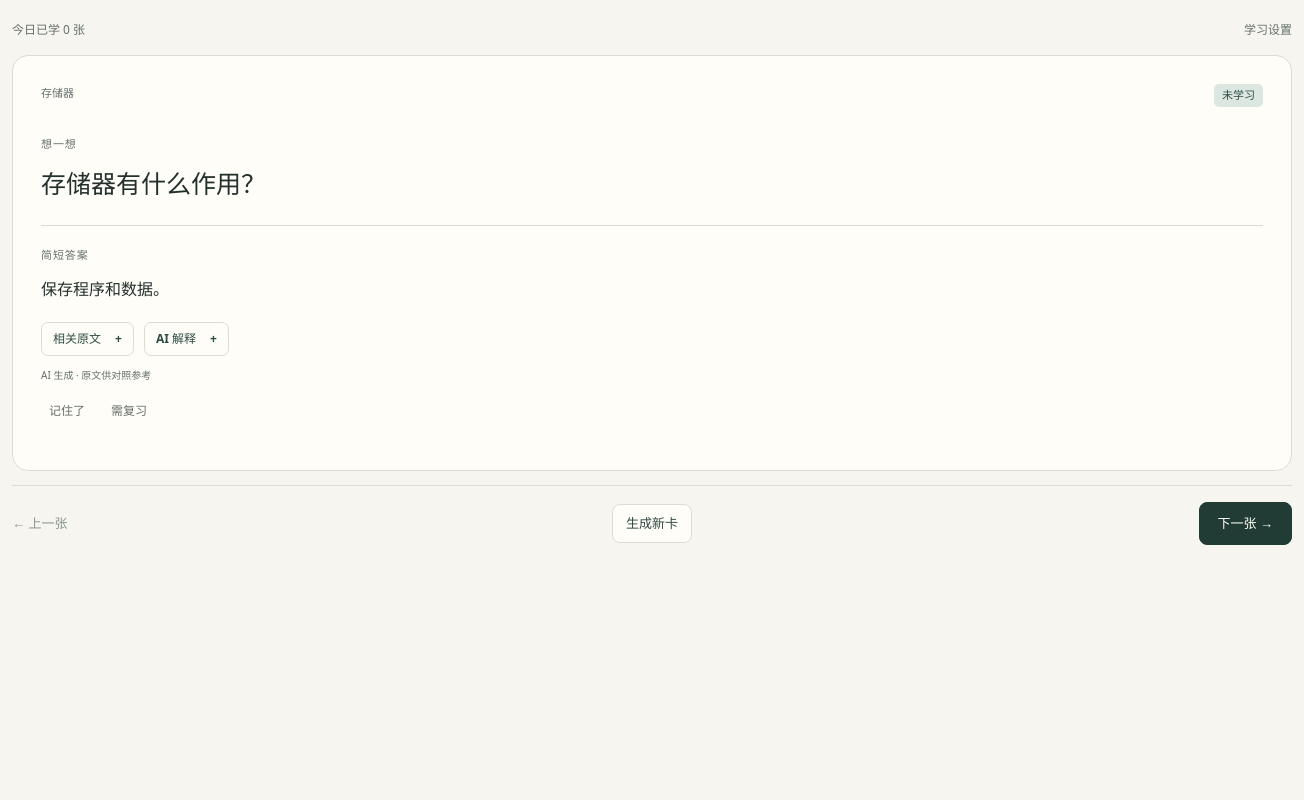
Test: shows LLM content with optional original text and working page navigation
The width and height of the screenshot is (1304, 800).
Expected: the text "保存程序和数据。" is shown, [41,278,169,300]
Expected: the text "AI 生成 · 原文供对照参考" is shown, [41,368,151,382]
Click the button "相关原文 +": [87, 339] box [41,322,134,356]
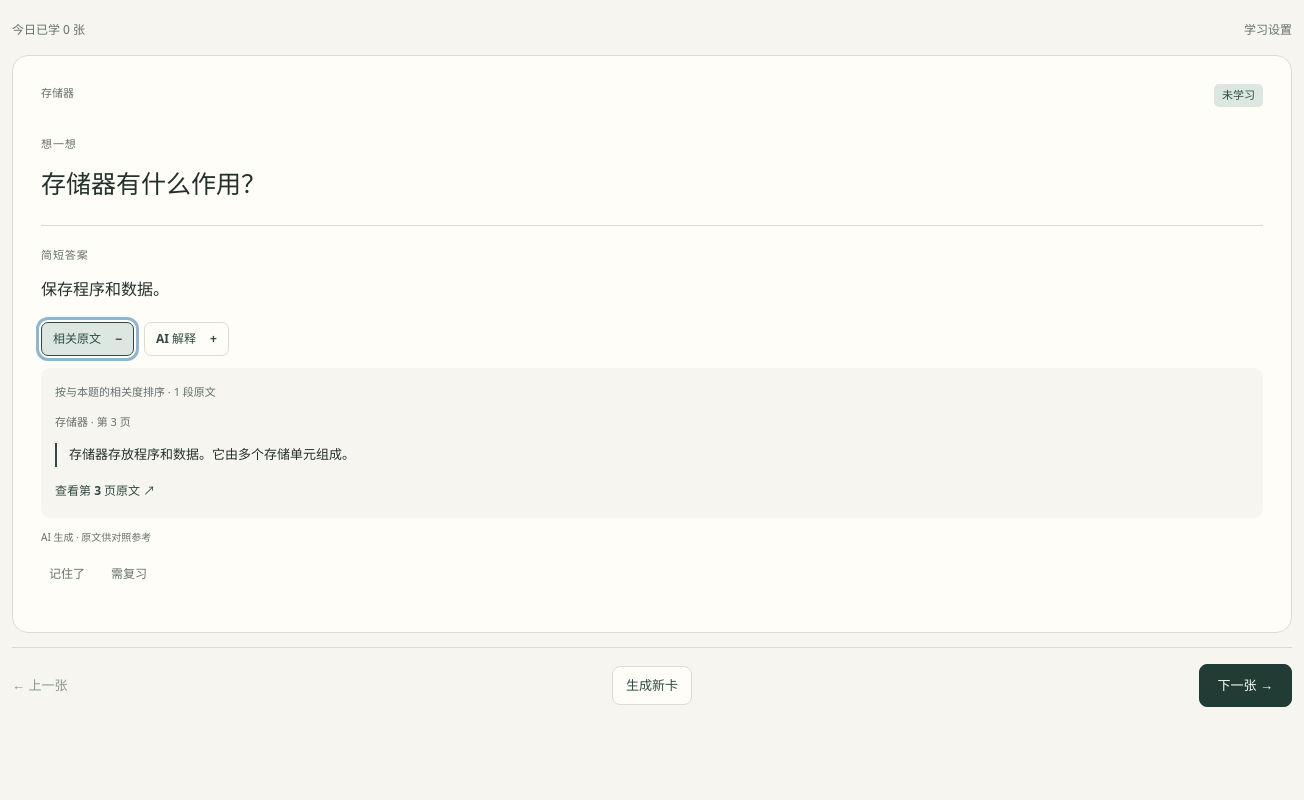
Now the text "存储器存放程序和数据。它由多个存储单元组成。" is shown, box [55,443,1249,467]
Click the button "查看第 3 页原文 ↗": [105, 490] box [55,477,155,504]
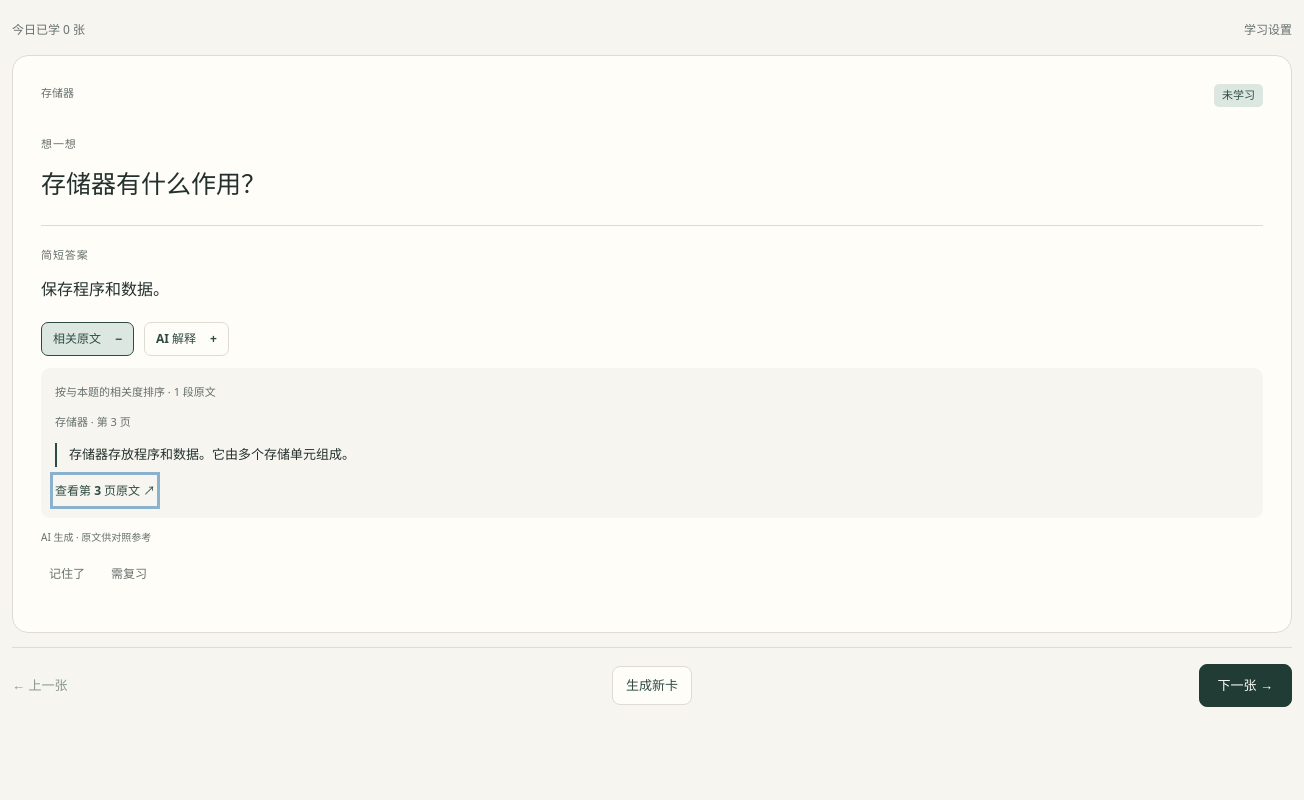
Click the button "AI 解释 +": [186, 339] box [144,322,229,356]
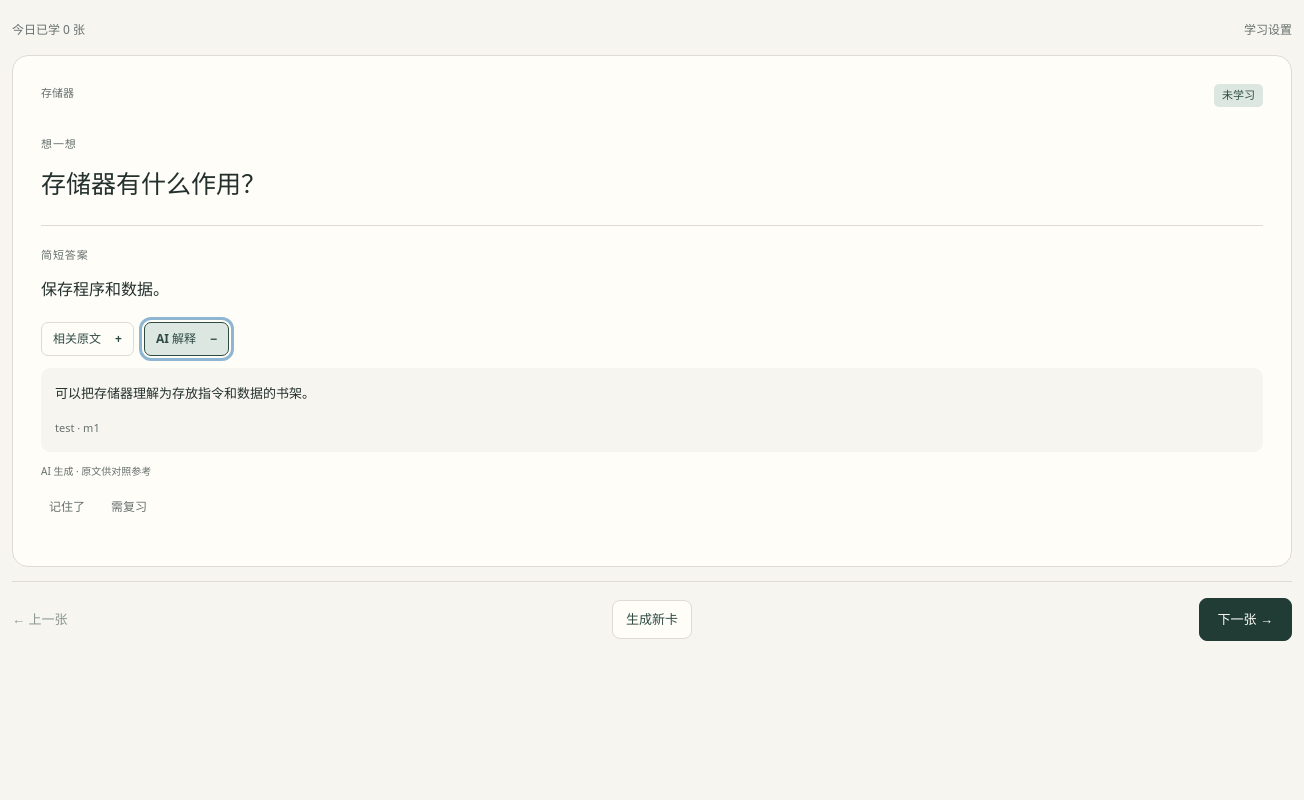
Now the text "可以把存储器理解为存放指令和数据的书架。" is shown, box [55,384,315,402]
